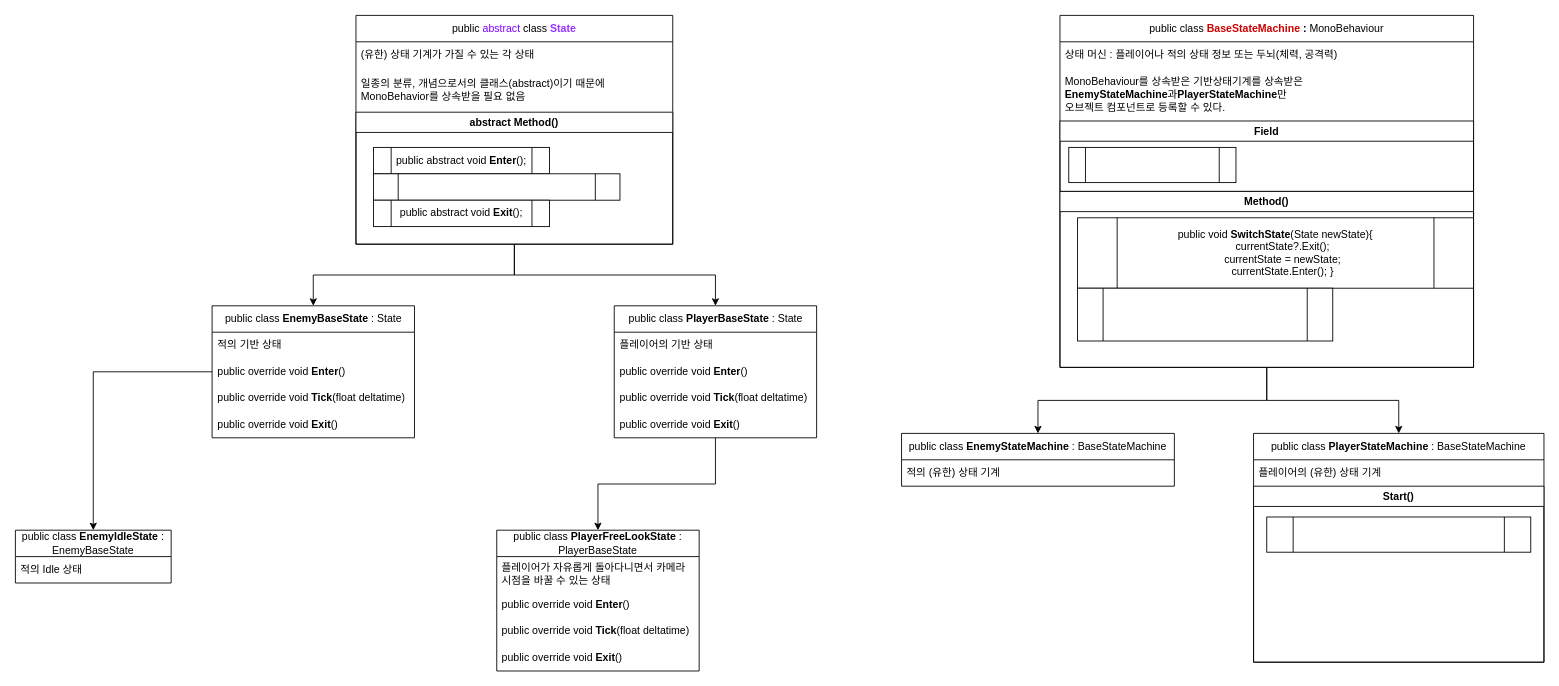
This 1559x686 diagram has some shape labels left out. The centre of each missing label's shape, as x and y in pixels:
private void Update () { currentState. Tick (Time.deltaTime); }: the point at 1205,314
public abstract void Tick (float deltatime);: the point at 496,186
State currentState = null;: the point at 1152,165
SwitchState (new PlayerFreeLookState );: the point at 1398,534
